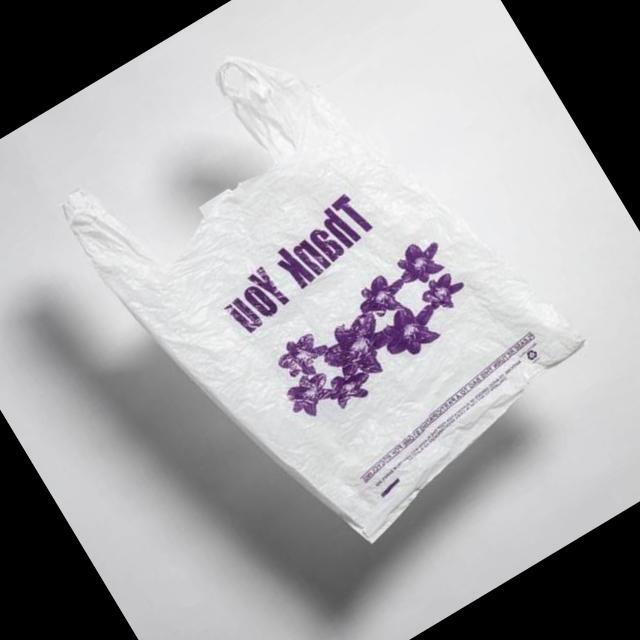KantongPlastik: (34, 0, 620, 595)
